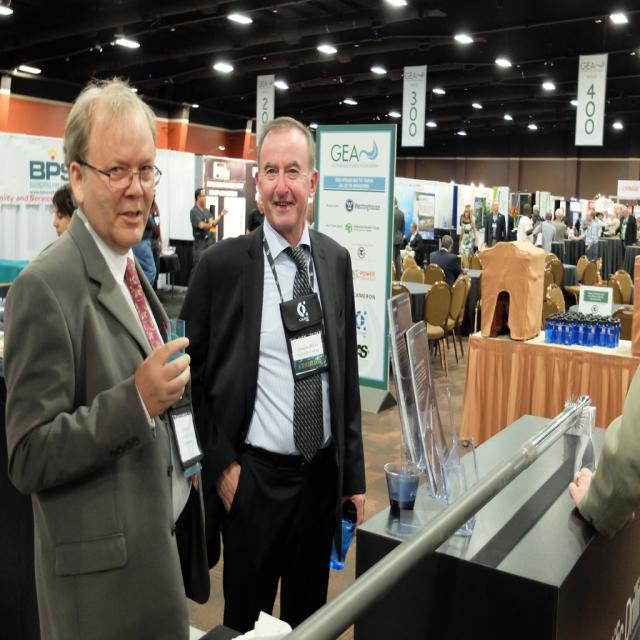no_helmet: (46, 118, 174, 270), (241, 155, 327, 268)
